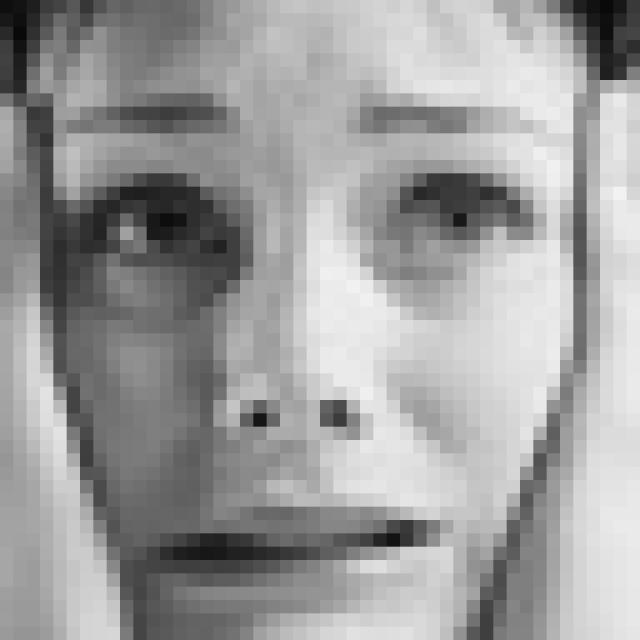fear: (59, 95, 583, 612)
